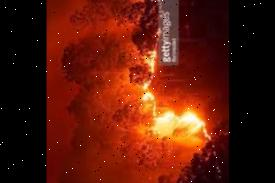fire: (132, 64, 224, 174)
